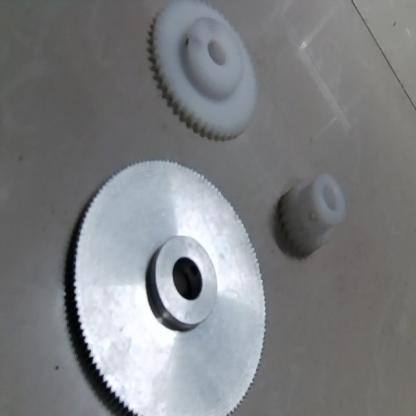FOD: (66, 158, 272, 415), (147, 0, 265, 146), (277, 166, 353, 256)
